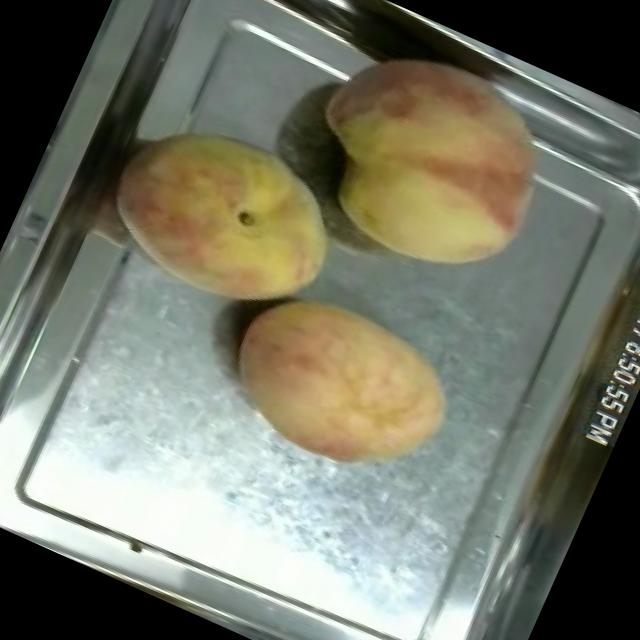Fruit: (275, 9, 588, 308), (83, 88, 370, 346), (201, 260, 479, 505)
